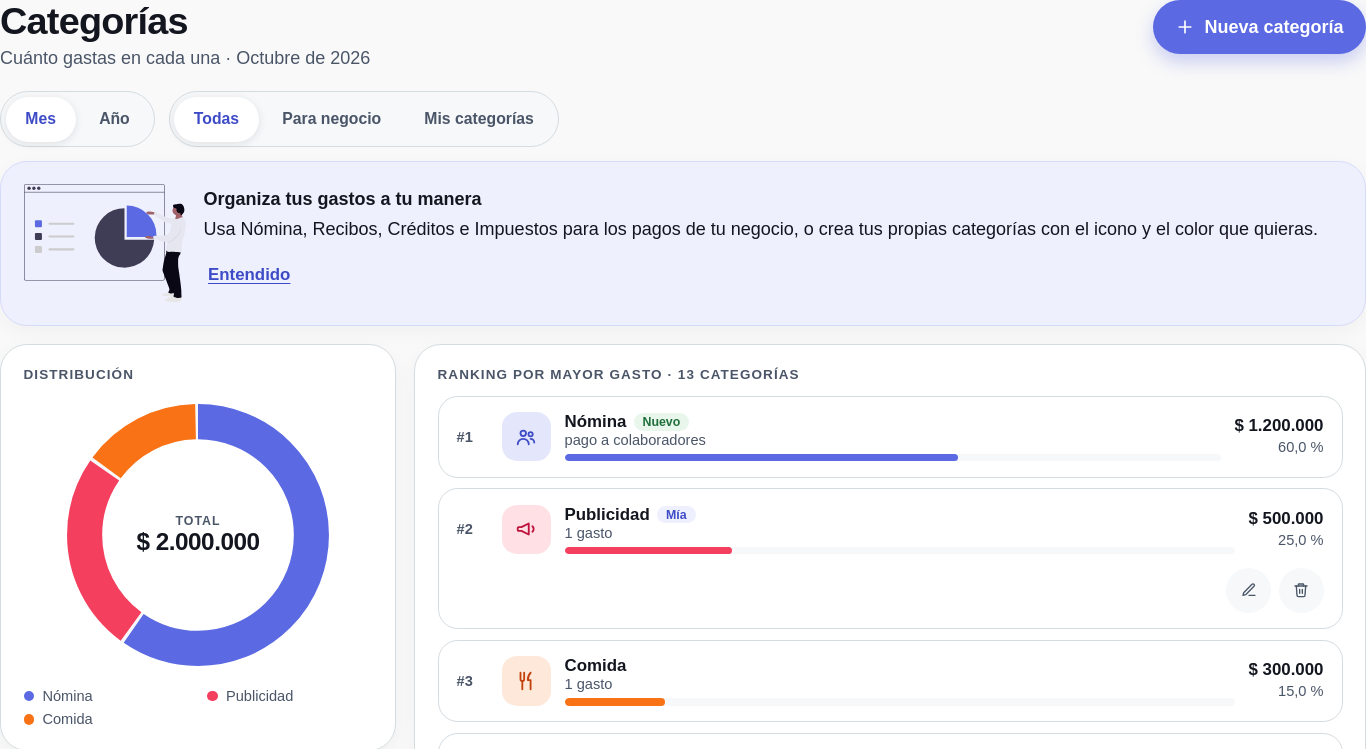
it: PaginaCategorias › borrar una categoría propia pide confirmación y explica qué pasa con sus gastos
The image size is (1366, 749).
What coordinates should you click on to do the following:
click the button named "Borrar la categoría Publicidad"
I would click on:
 (1301, 590)
Its box is left=1278, top=568, right=1324, bottom=613.
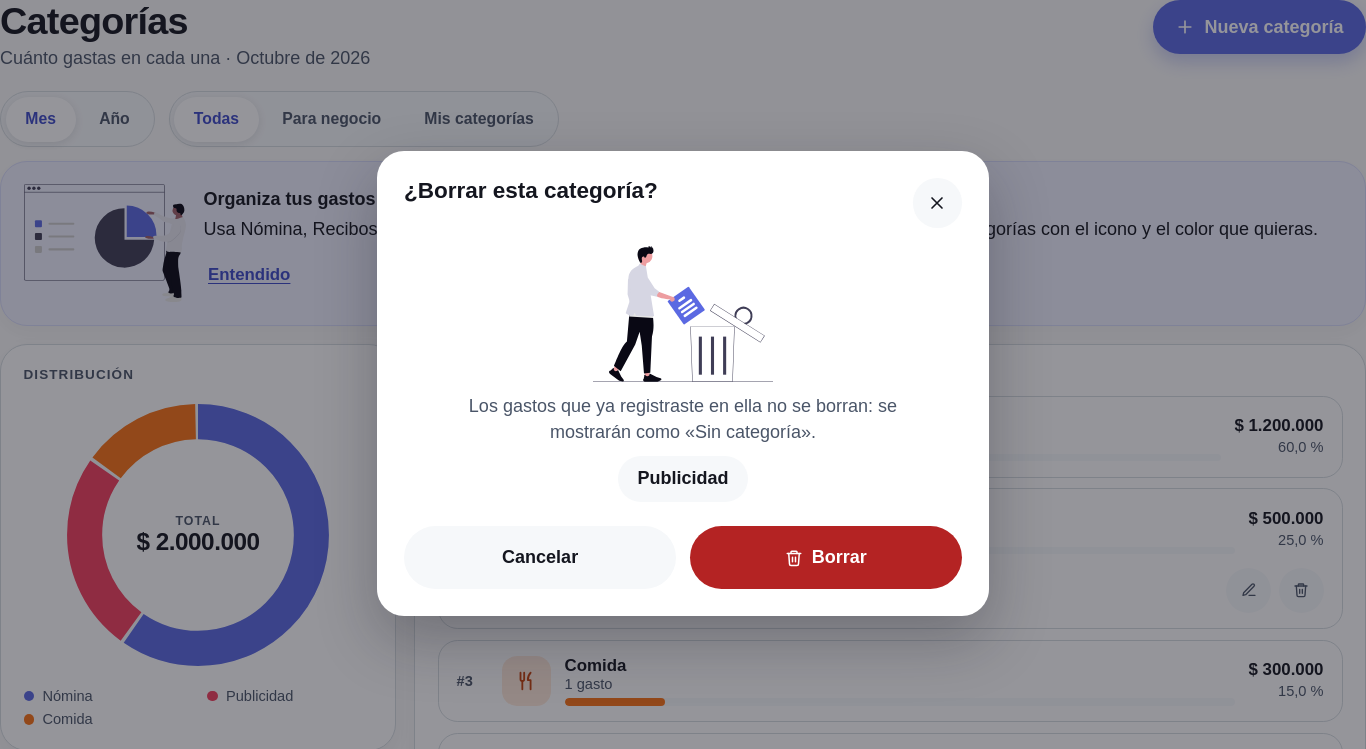
Expected: the text "se mostrarán como «Sin categoría»" is shown, left=469, top=396, right=897, bottom=442
What coordinates should you click on to do the following:
click the button "Borrar"
I would click on:
 (826, 558)
Its box is left=690, top=526, right=962, bottom=590.
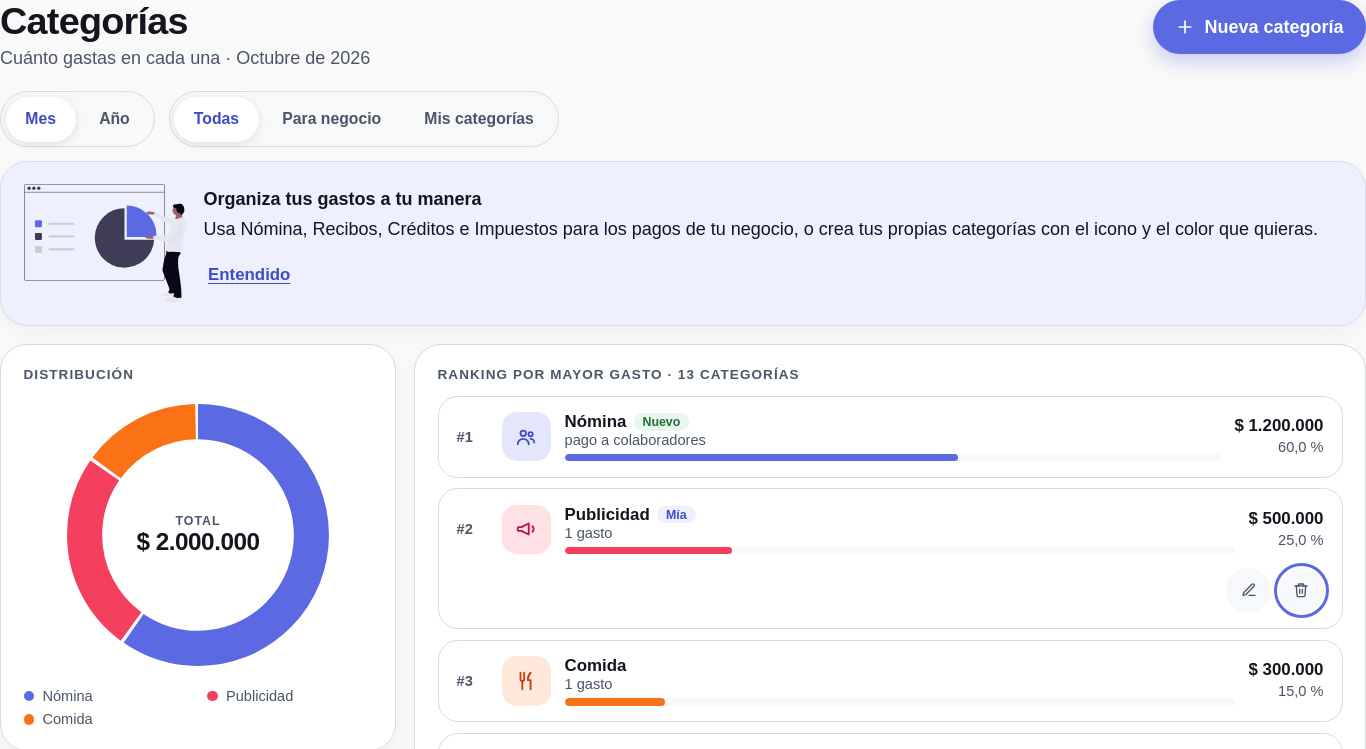
Expected: the dialog is gone
